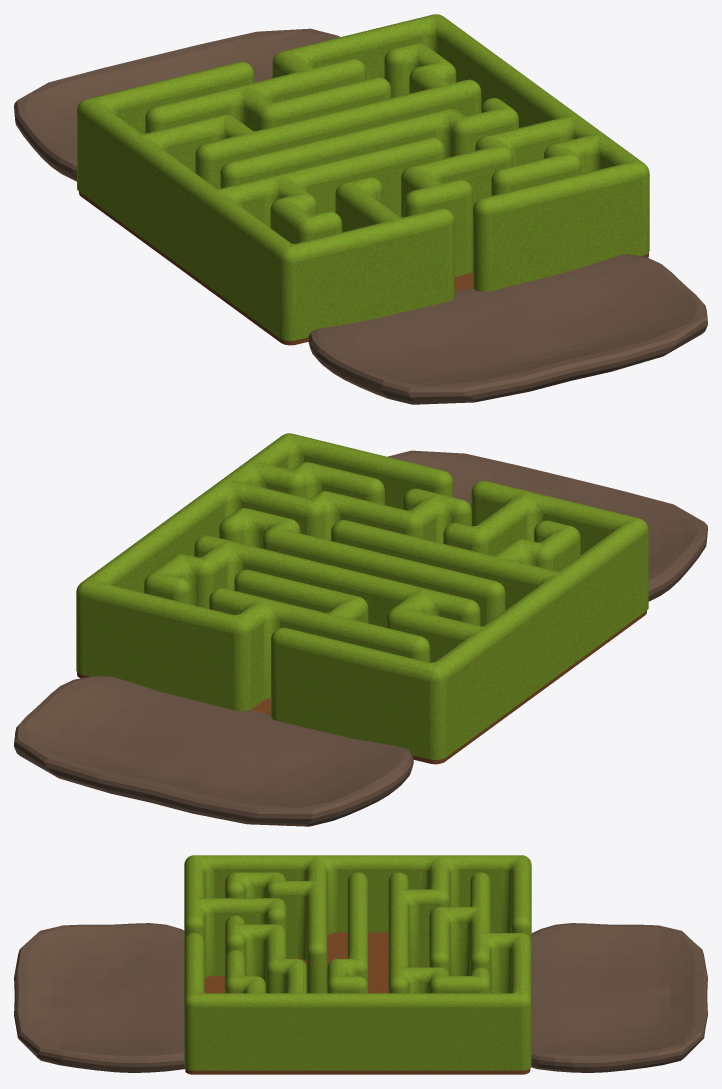
The model's file is simple-maze_02.glb.
3 renders of one model, top to bottom at view 1: azimuth 30°, elevation 25°; view 2: azimuth 150°, elevation 25°; view 3: azimuth 270°, elevation 25°, orthographic. The views are drawn at different scales.
Visible parts, largest first — view 1: Plane, Cube.001, Cube, Plane.001; view 2: Plane, Cube, Cube.001, Plane.001; view 3: Plane, Cube, Cube.001, Plane.001.
Boxes of the visible parts, x1,y1,x2,y2 form: Plane: (77,14,649,340); Cube.001: (308,254,707,404); Cube: (14,28,340,181); Plane.001: (79,192,648,345); Plane: (76,433,648,759); Cube: (14,675,413,826); Cube.001: (387,450,707,601); Plane.001: (77,611,646,764); Plane: (184,855,531,1070); Cube: (531,923,707,1072); Cube.001: (14,923,185,1072); Plane.001: (185,932,530,1074).
Bounding box in the file's own units: 38.99 × 10.68 × 78.05.
Materials: 4 (2 with a texture image).
